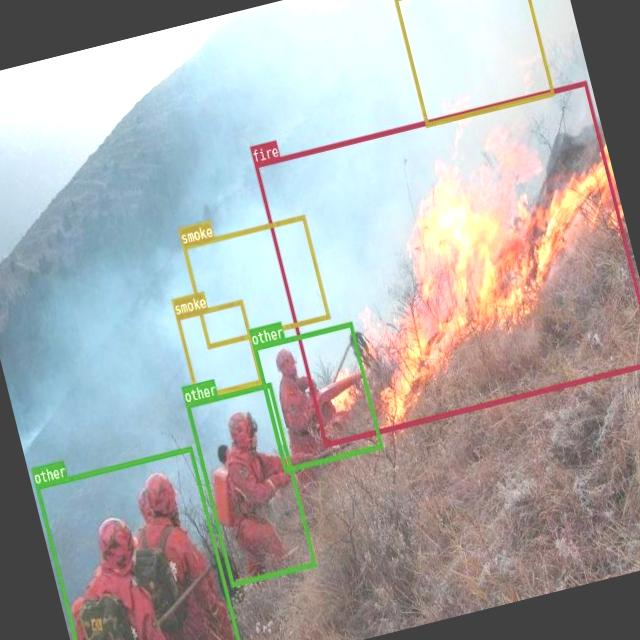fire: (253, 79, 640, 446)
smoke: (392, 0, 553, 126), (182, 214, 330, 348), (175, 298, 262, 399)
